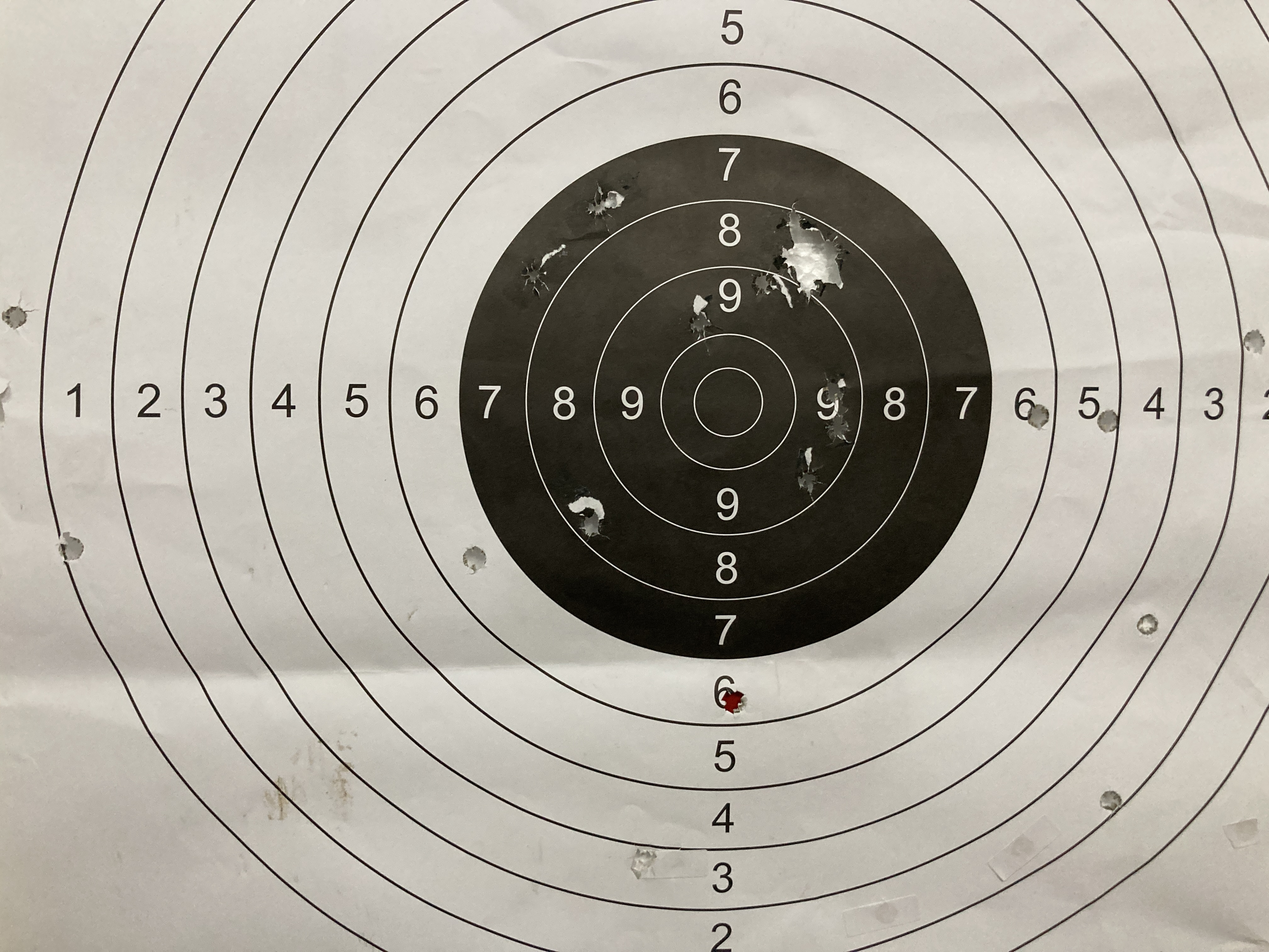hole: (581, 173, 639, 233), (515, 249, 565, 299), (809, 410, 861, 457), (623, 833, 669, 886), (571, 501, 614, 553), (679, 296, 726, 343), (812, 373, 861, 410), (746, 263, 786, 308), (53, 531, 91, 578), (459, 538, 490, 587), (789, 464, 828, 502), (0, 303, 40, 334), (1234, 322, 1267, 359), (1020, 394, 1052, 432), (1094, 784, 1126, 816), (1090, 404, 1120, 438), (716, 688, 749, 714), (1133, 609, 1157, 643)
